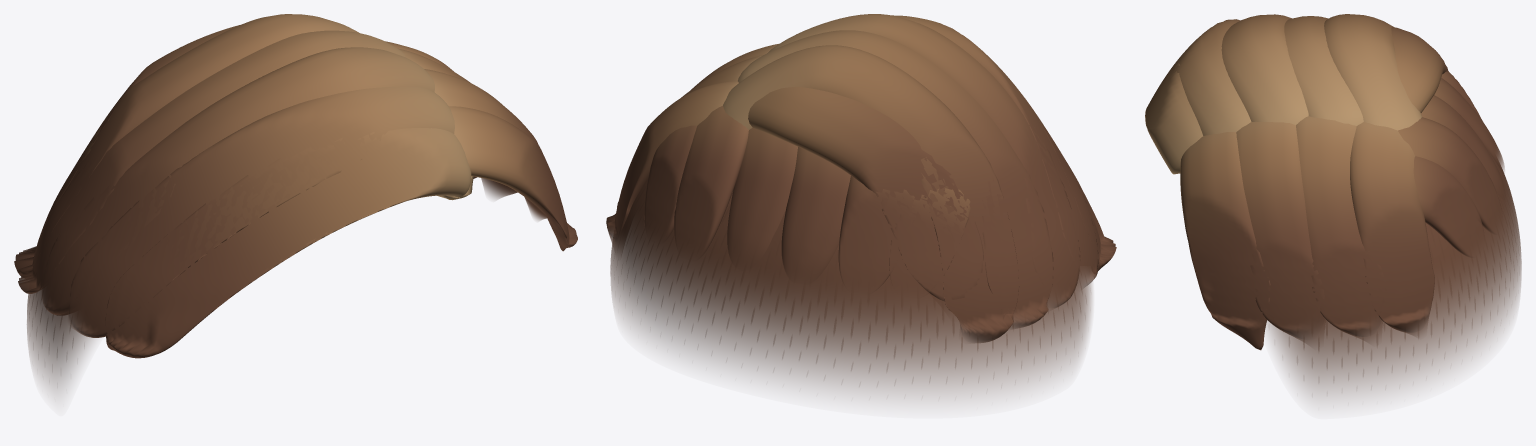
File: Masculine-taper-beanie258-hair-ombre.glb
3 renders of one model, left to right at view 1: azimuth 30°, elevation 25°; view 2: azimuth 150°, elevation 25°; view 3: azimuth 270°, elevation 25°, orthographic. The views are drawn at different scales.
Parts seen in each view (by area): view 1: 226 hair / Hair258 / sculpted side sweep 1, 226 hair / Hair258 / sculpted side sweep 0, 226 hair / Hair258 / sculpted side sweep 2, 226 hair / Hair258 / smooth side fade; view 2: 226 hair / Hair258 / sculpted side sweep 0, 226 hair / Hair258 / smooth side fade, 226 hair / Hair258 / sculpted side sweep 1, 226 hair / Hair258 / sculpted side sweep 2, 226 hair / Hair258 / directional fade marks; view 3: 226 hair / Hair258 / sculpted side sweep 1, 226 hair / Hair258 / sculpted side sweep 0, 226 hair / Hair258 / sculpted side sweep 2, 226 hair / Hair258 / smooth side fade, 226 hair / Hair258 / directional fade marks.
Part boxes in pixels (x1=…): 226 hair / Hair258 / sculpted side sweep 1: x1=18, y1=30, x2=577, y2=358; 226 hair / Hair258 / sculpted side sweep 0: x1=14, y1=14, x2=546, y2=337; 226 hair / Hair258 / sculpted side sweep 2: x1=41, y1=47, x2=517, y2=315; 226 hair / Hair258 / smooth side fade: x1=27, y1=287, x2=94, y2=393; 226 hair / Hair258 / sculpted side sweep 0: x1=674, y1=15, x2=1098, y2=342; 226 hair / Hair258 / smooth side fade: x1=610, y1=180, x2=1091, y2=398; 226 hair / Hair258 / sculpted side sweep 1: x1=606, y1=30, x2=1116, y2=328; 226 hair / Hair258 / sculpted side sweep 2: x1=617, y1=14, x2=1080, y2=307; 226 hair / Hair258 / directional fade marks: x1=621, y1=181, x2=1086, y2=371; 226 hair / Hair258 / sculpted side sweep 1: x1=1145, y1=16, x2=1505, y2=350; 226 hair / Hair258 / sculpted side sweep 0: x1=1171, y1=14, x2=1502, y2=340; 226 hair / Hair258 / sculpted side sweep 2: x1=1221, y1=14, x2=1504, y2=337; 226 hair / Hair258 / smooth side fade: x1=1266, y1=151, x2=1521, y2=400; 226 hair / Hair258 / directional fade marks: x1=1289, y1=151, x2=1516, y2=379.
Size of the model in its own units: 0.9705 by 0.6474 by 0.7363.
